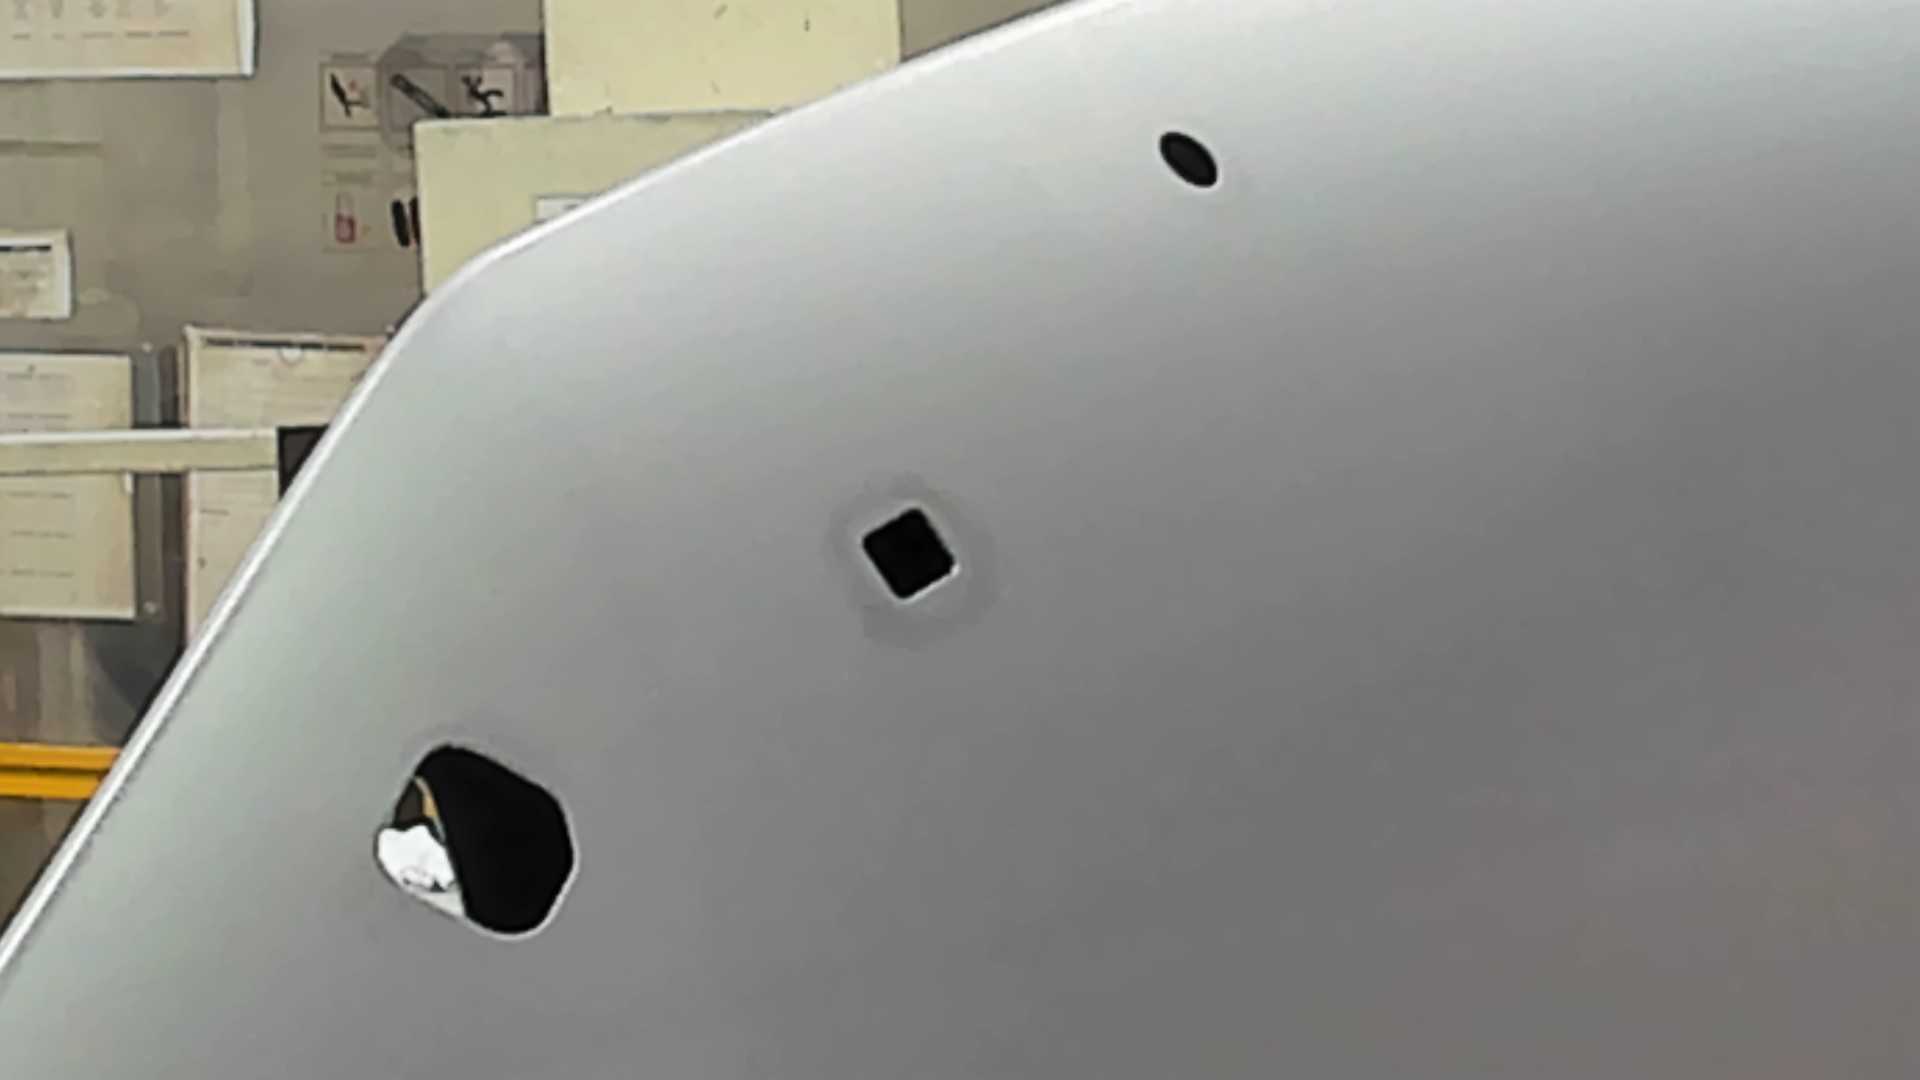capo: (975, 196, 1920, 1080)
chico: (1150, 123, 1224, 195)
grande: (373, 738, 585, 951)
mediano: (848, 497, 968, 611)
